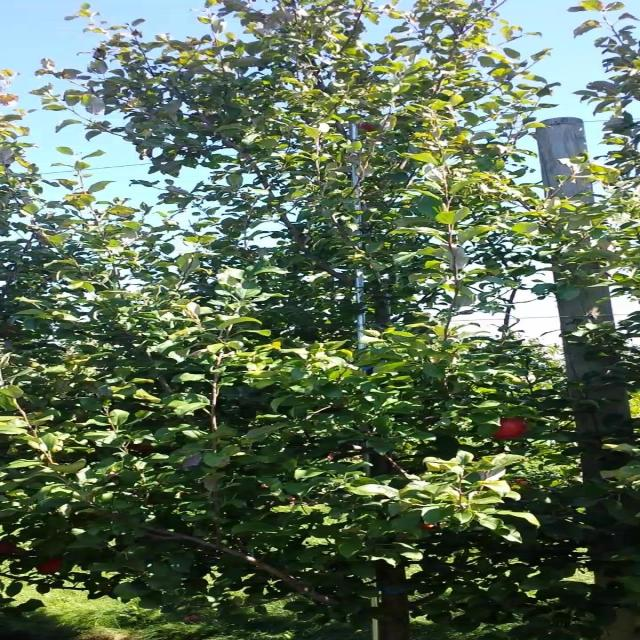apple: (497, 420, 528, 440), (35, 560, 64, 576), (6, 544, 20, 555), (362, 124, 377, 132), (419, 524, 434, 531)
